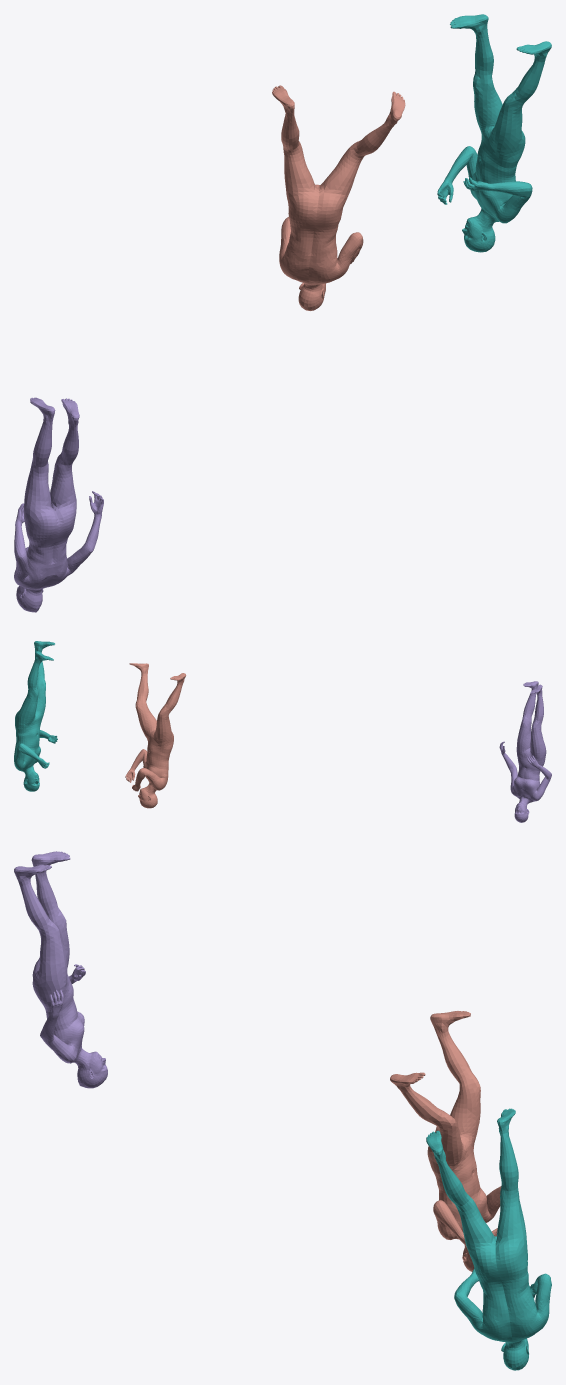
File: all_people_native_world.glb
3 renders of one model, top to bottom at view 1: azimuth 30°, elevation 25°; view 2: azimuth 150°, elevation 25°; view 3: azimuth 270°, elevation 25°, orthographic. The views are drawn at different scales.
Visible parts, largest first — view 1: persistent_id_0_slot_0, persistent_id_1_slot_1, persistent_id_2_slot_2; view 2: persistent_id_0_slot_0, persistent_id_2_slot_2, persistent_id_1_slot_1; view 3: persistent_id_1_slot_1, persistent_id_2_slot_2, persistent_id_0_slot_0.
Boxes of the visible parts, x1=… form: persistent_id_0_slot_0: x1=272, y1=85, x2=405, y2=310; persistent_id_1_slot_1: x1=437, y1=14, x2=551, y2=252; persistent_id_2_slot_2: x1=14, y1=397, x2=103, y2=612; persistent_id_0_slot_0: x1=125, y1=663, x2=186, y2=808; persistent_id_2_slot_2: x1=499, y1=681, x2=551, y2=822; persistent_id_1_slot_1: x1=14, y1=641, x2=57, y2=791; persistent_id_1_slot_1: x1=426, y1=1108, x2=551, y2=1370; persistent_id_2_slot_2: x1=14, y1=851, x2=107, y2=1088; persistent_id_0_slot_0: x1=390, y1=1011, x2=501, y2=1271.
Bounding box in the file's own units: 5.45 × 2.08 × 3.43.
